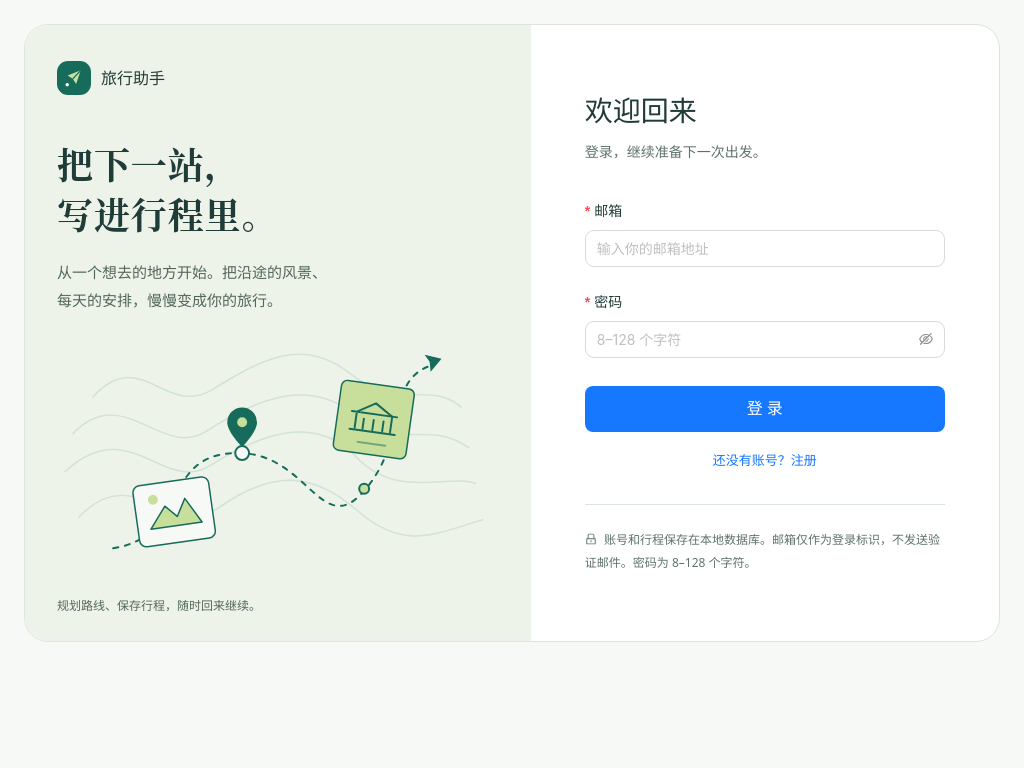
Scenario: local login form submission › keeps clear form headings, password hints and decorative artwork outside the reading order
Expected: the heading "把下一站，写进行程里。" is shown, [57,139,278,240]
Expected: the heading "欢迎回来" is shown, [585,91,697,129]
Click the button "还没有账号？注册" at x=765, y=460, box [585,444,945,476]
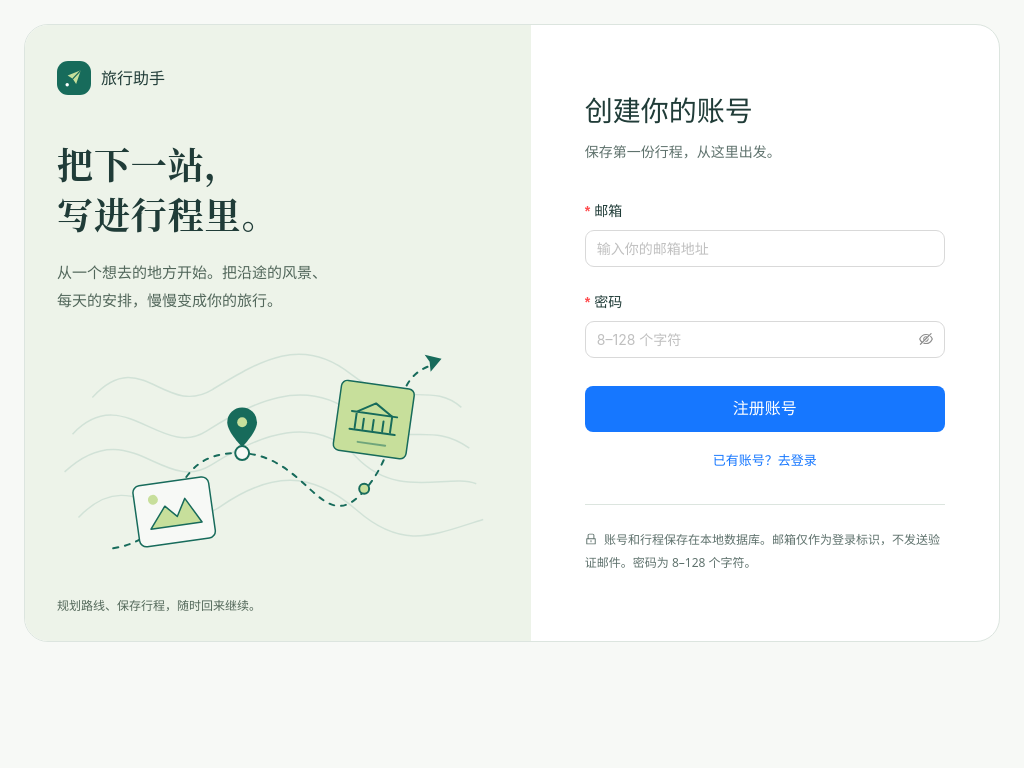
Expected: the text "邮箱仅作为登录标识，不发送验证邮件" is shown, [585,531,940,571]
Now the heading "创建你的账号" is shown, box [585,91,753,129]
